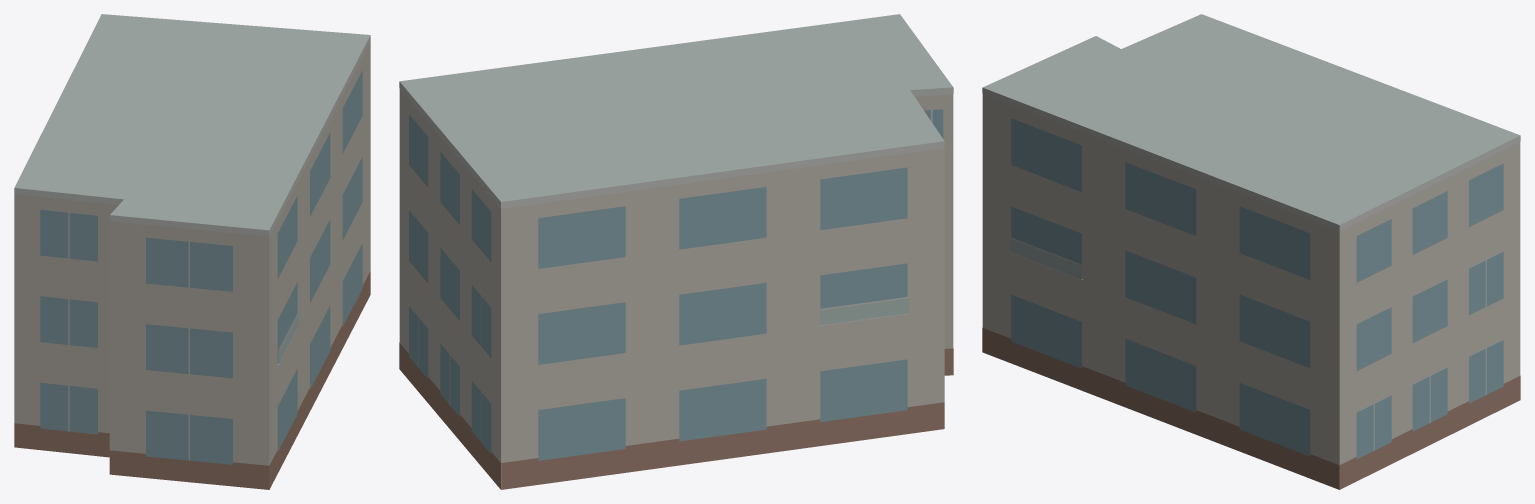
File: survey-upis-32841564.glb
The picture shows the model from 3 angles, left to right: view 1: azimuth 30°, elevation 25°; view 2: azimuth 150°, elevation 25°; view 3: azimuth 270°, elevation 25°; orthographic projection. The views are drawn at different scales.
Visible parts, largest first — view 1: survey-upis-32841564.tmp; view 2: survey-upis-32841564.tmp; view 3: survey-upis-32841564.tmp.
Boxes of the visible parts, x1,y1,x2,y2 form: survey-upis-32841564.tmp: [14, 14, 370, 489]; survey-upis-32841564.tmp: [399, 14, 953, 489]; survey-upis-32841564.tmp: [982, 14, 1520, 489].
Bounding box in the file's own units: 17.62 × 10.3 × 18.97.
